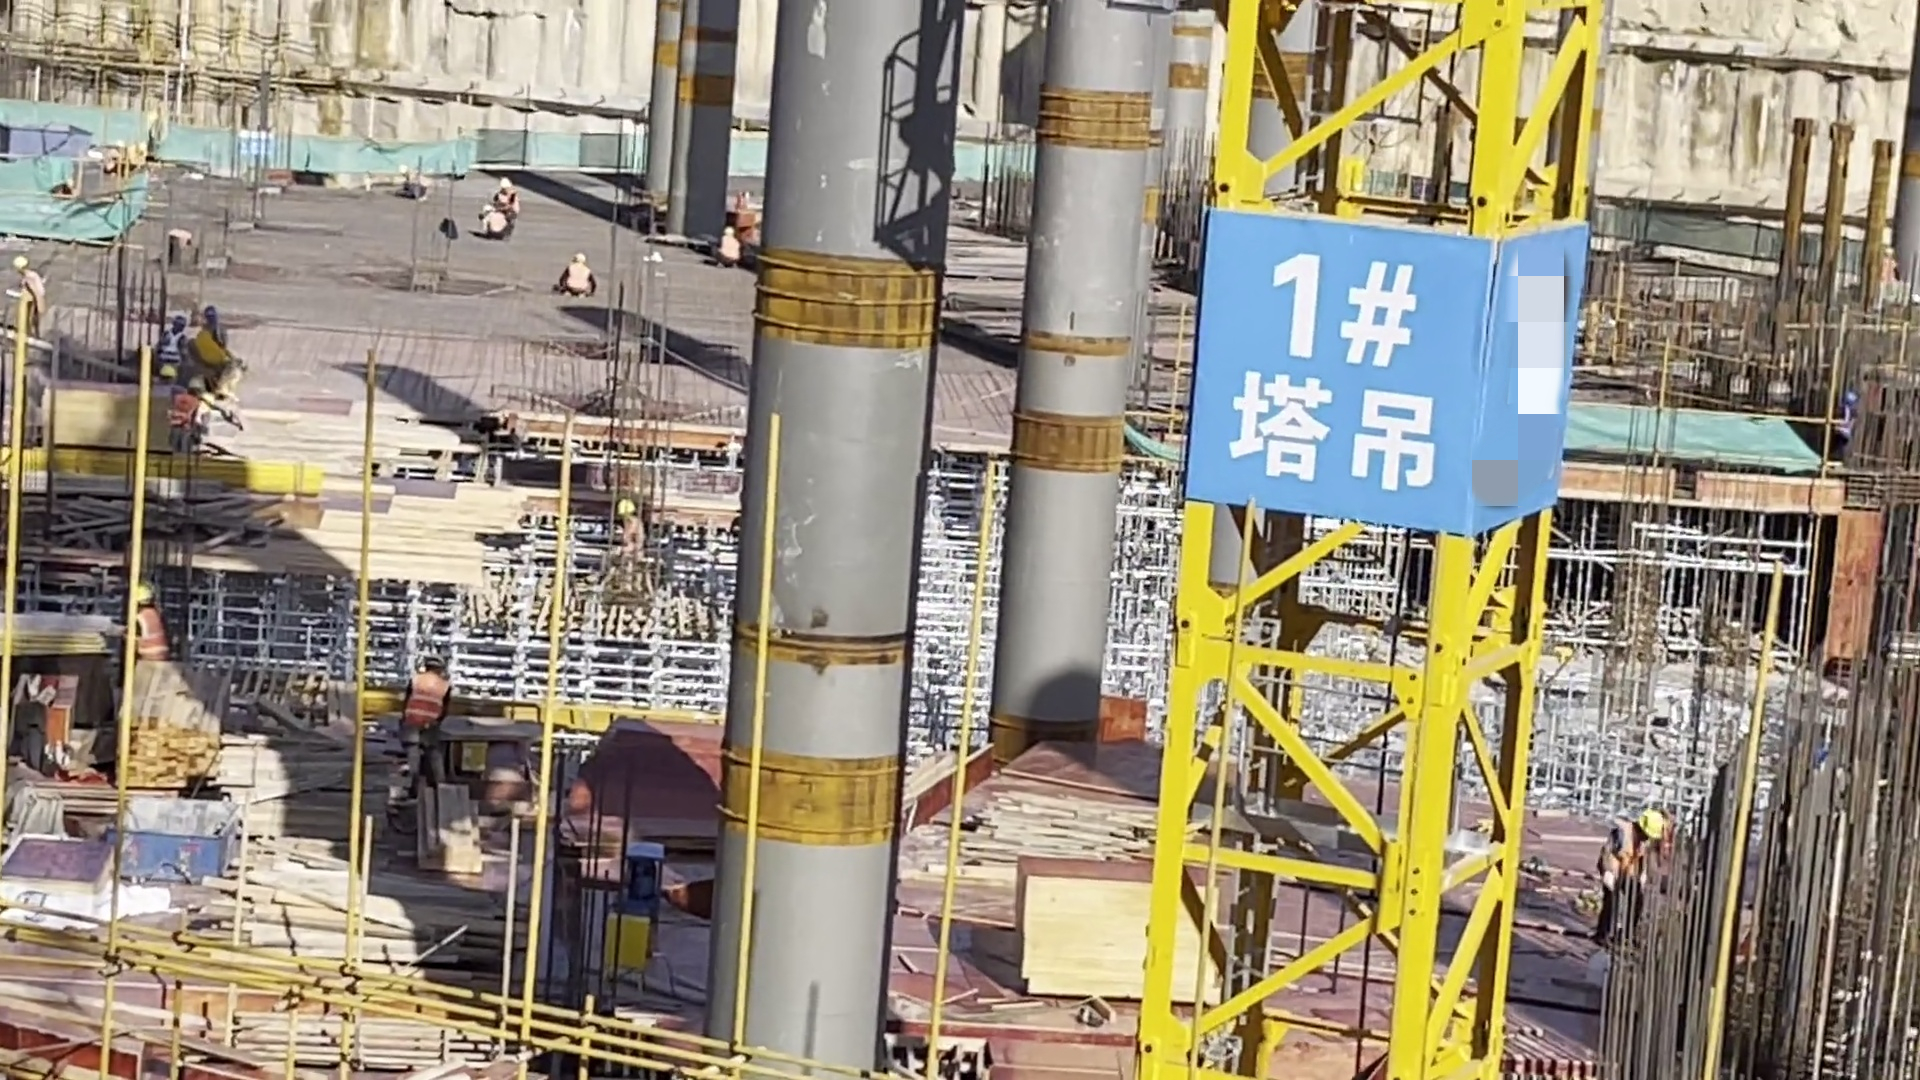board: (1004, 849, 1220, 1011), (37, 383, 173, 452), (1, 602, 112, 683)
helmet: (128, 584, 156, 611), (168, 307, 187, 334), (201, 304, 222, 325), (618, 498, 636, 515), (570, 253, 590, 266), (496, 176, 512, 189), (722, 227, 738, 239)
hopper: (118, 801, 241, 884)
person: (1588, 806, 1672, 955), (405, 646, 452, 801), (120, 584, 179, 676), (609, 495, 651, 577), (194, 297, 243, 362), (167, 379, 203, 465), (553, 248, 604, 302), (1825, 393, 1863, 466), (157, 308, 190, 379), (489, 171, 521, 232), (710, 226, 748, 276), (479, 204, 515, 241)
slogan: (1179, 216, 1588, 517)
vest: (1600, 820, 1660, 902), (402, 672, 453, 734), (129, 608, 175, 669), (171, 395, 203, 441), (157, 331, 188, 370), (569, 265, 588, 292)
wood: (229, 844, 495, 968), (113, 660, 236, 796), (419, 783, 483, 873)
